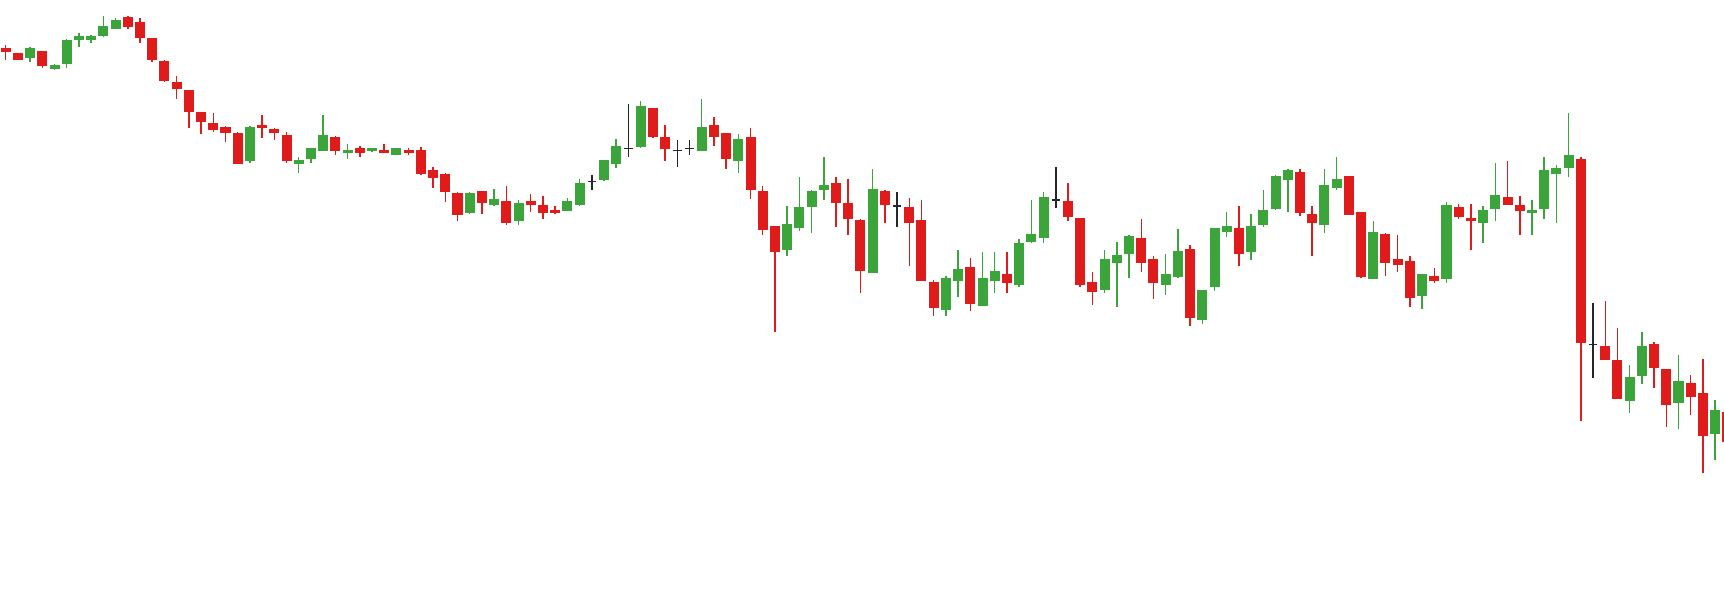buy: (853, 231, 955, 320), (1112, 246, 1208, 326)
sell: (1487, 115, 1588, 221)
